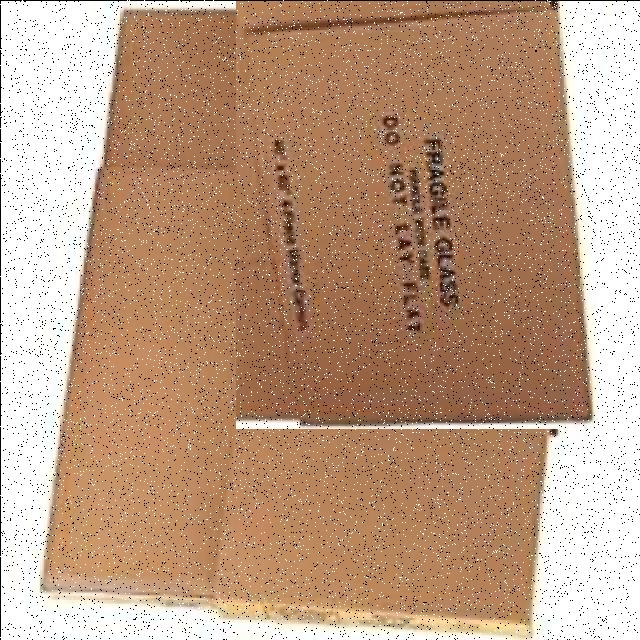normal: (235, 0, 597, 428), (217, 400, 549, 637)
